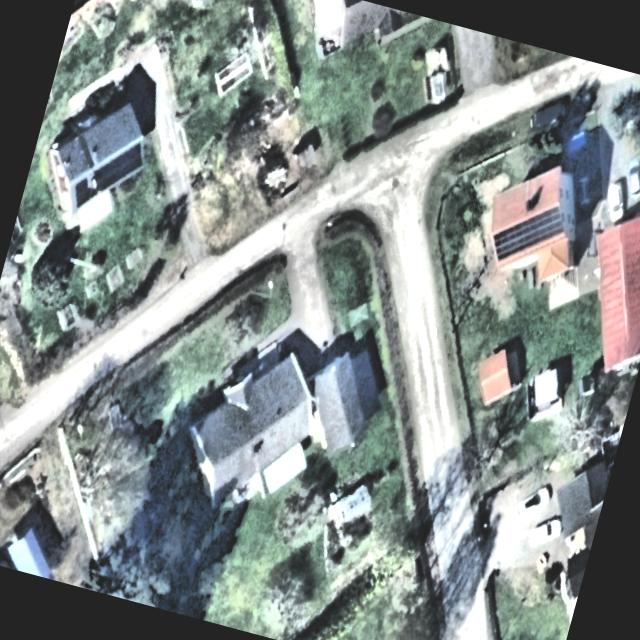roof_pv: (91, 129, 147, 202), (523, 199, 569, 253), (490, 214, 534, 266), (66, 172, 98, 212)
